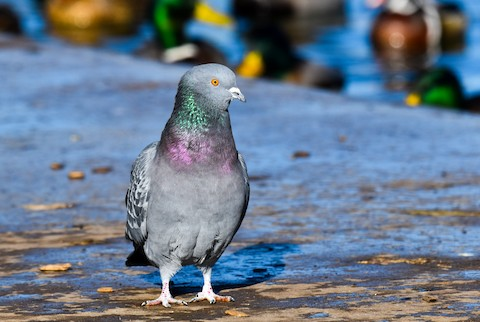pigeon: (123, 62, 252, 308)
